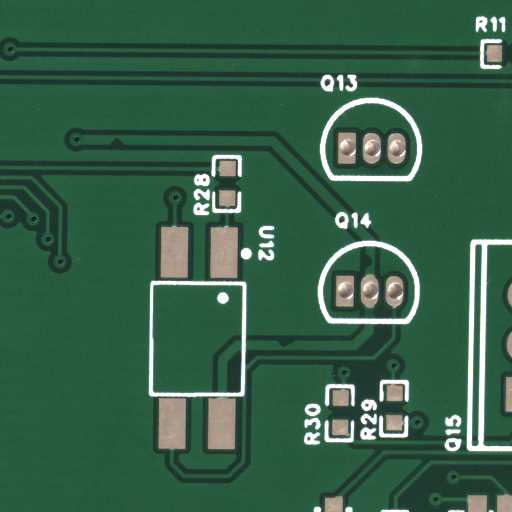Mouse_bite: (286, 343, 307, 353), (367, 260, 378, 278), (117, 141, 134, 150)
